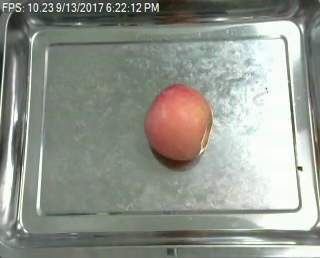Apple: (140, 80, 215, 166)
